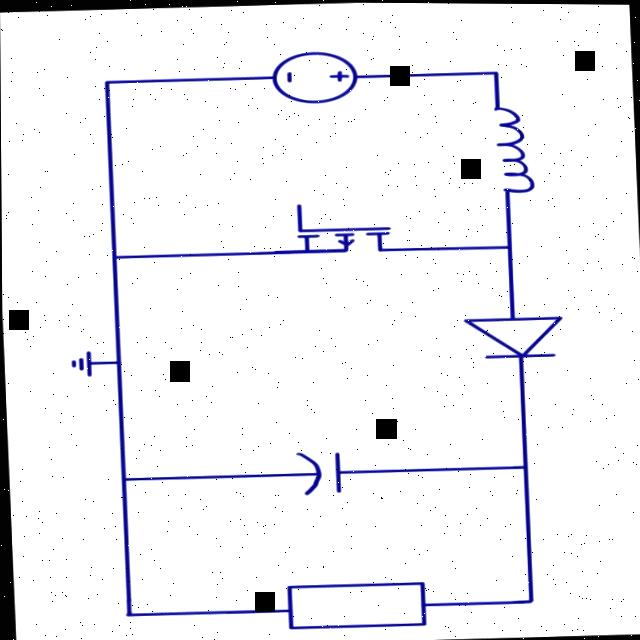capacitor: (271, 427, 369, 500)
diode: (451, 295, 579, 371)
ground: (58, 342, 106, 387)
inductor: (470, 86, 549, 206)
mosfet: (278, 195, 402, 271)
resistor: (268, 567, 444, 637)
source: (249, 38, 368, 112)
